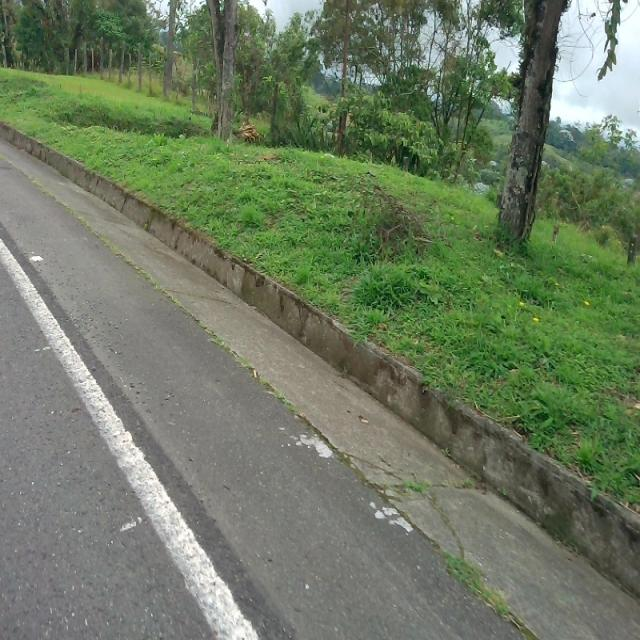DITCH: (1, 71, 639, 634), (1, 128, 638, 638)
